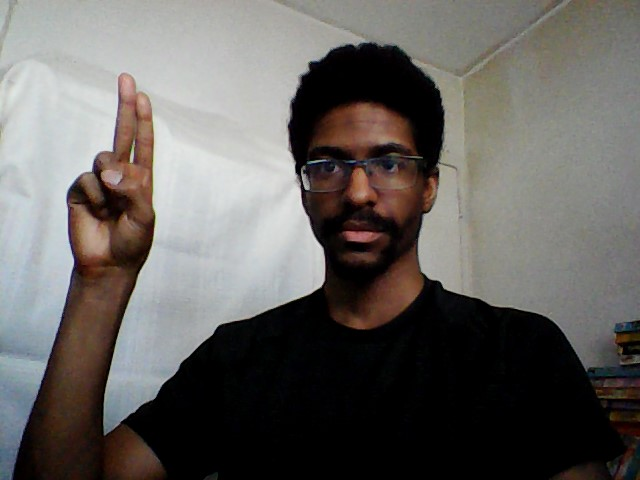u: (62, 69, 163, 280)
